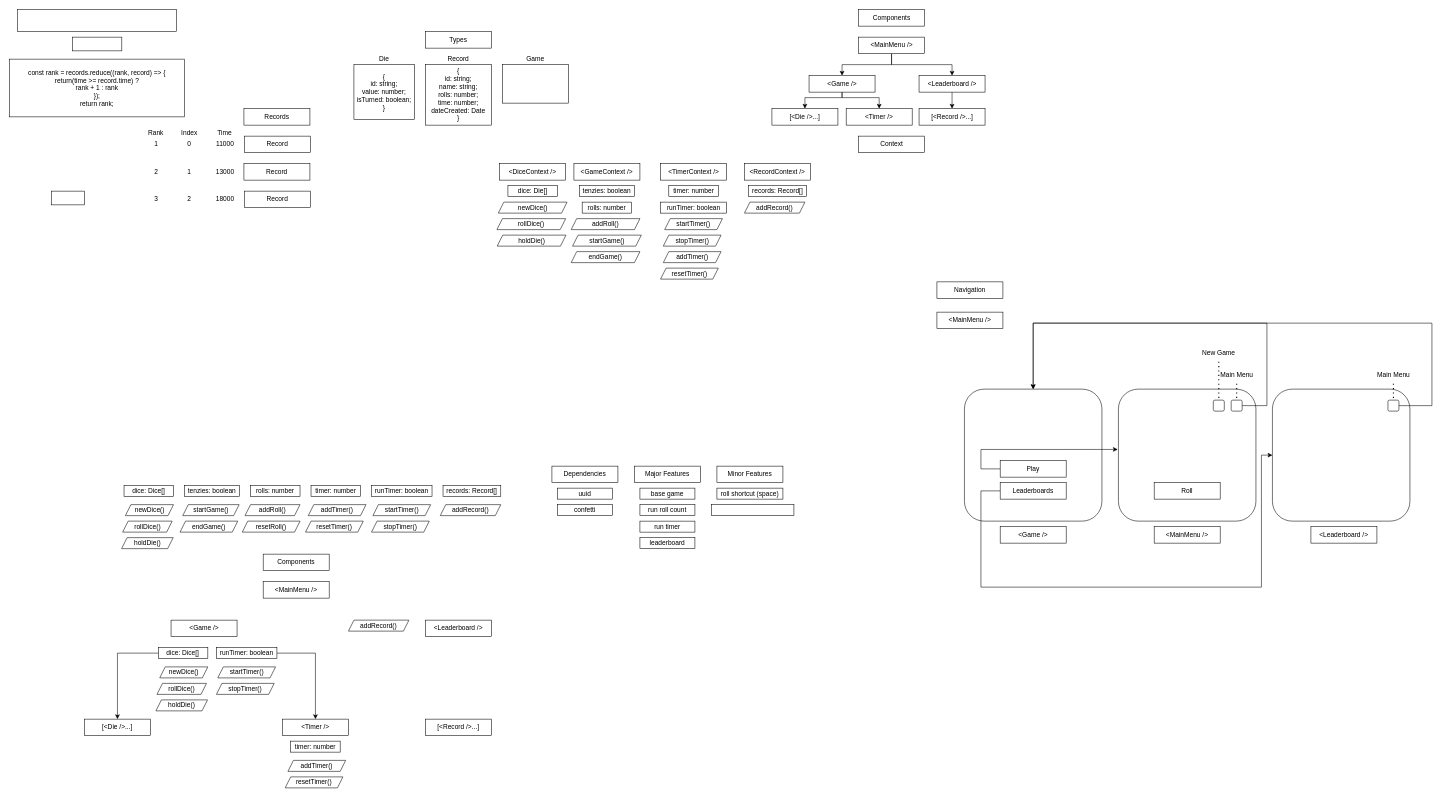
This 1446x798 diagram has some shape labels left out. Each missing label, with the box of its shape:
findRecordRank(time: number, records: Record[]): (17, 9, 176, 32)
new game shortcut(enter): (711, 504, 794, 516)
rank(2): (51, 191, 84, 205)
time (12000): (72, 37, 122, 51)
{ rolls: number; tenzies: boolean; }: (502, 64, 568, 103)
